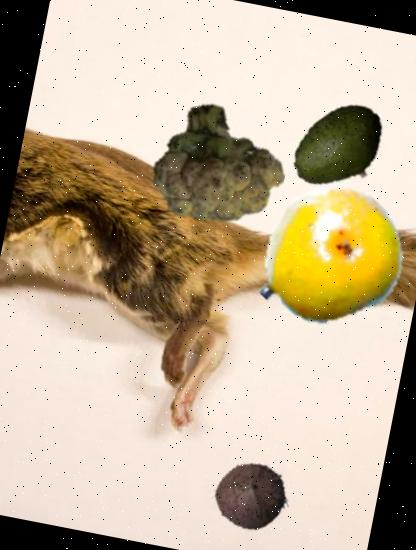Avocado: (282, 90, 400, 208)
Cauliflower: (142, 90, 296, 245)
Cocos: (205, 452, 295, 542)
Maracuja: (244, 172, 416, 344)
